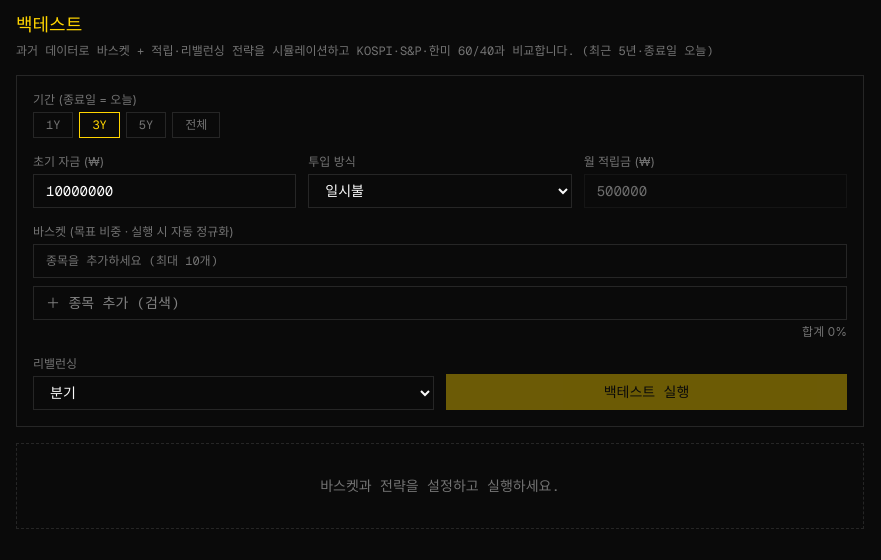
Scenario: BacktestPage › shows error message when API returns 422
The width and height of the screenshot is (881, 560).
In the field with placeholder "＋ 종목 추가 (검색)": [440, 303] box top-left (33, 286), bottom-right (847, 320), type "삼성"
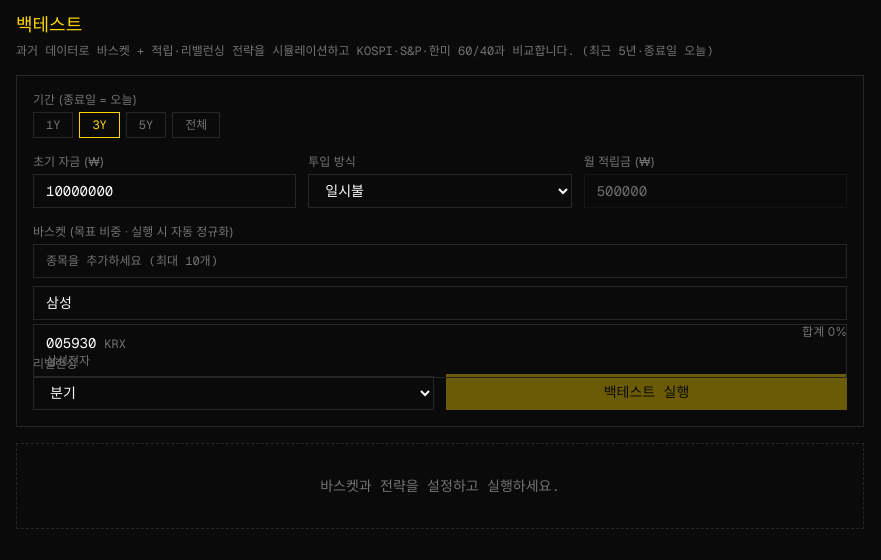
Click the button "005930KRX 삼성전자": [71, 343] box top-left (34, 325), bottom-right (846, 377)
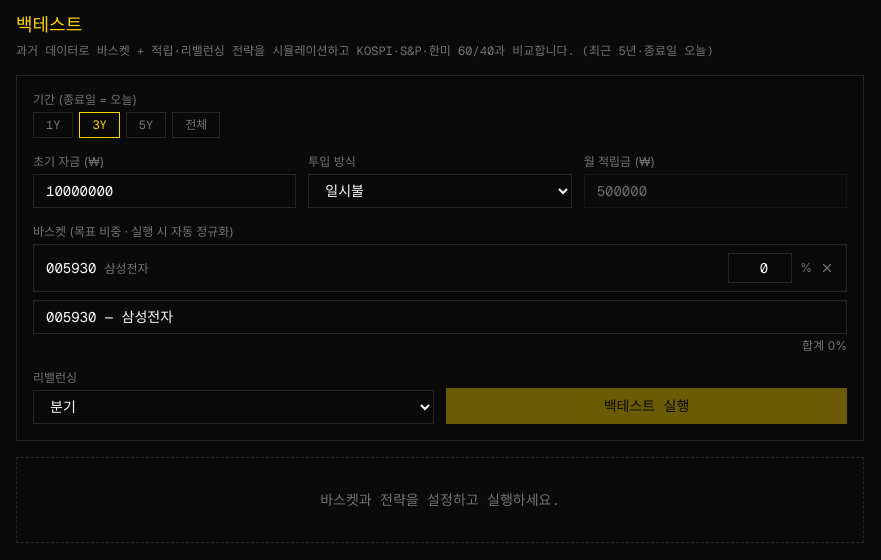
Replace the text in the number field named "005930 비중" with "100": [760, 268] box top-left (728, 253), bottom-right (792, 283)
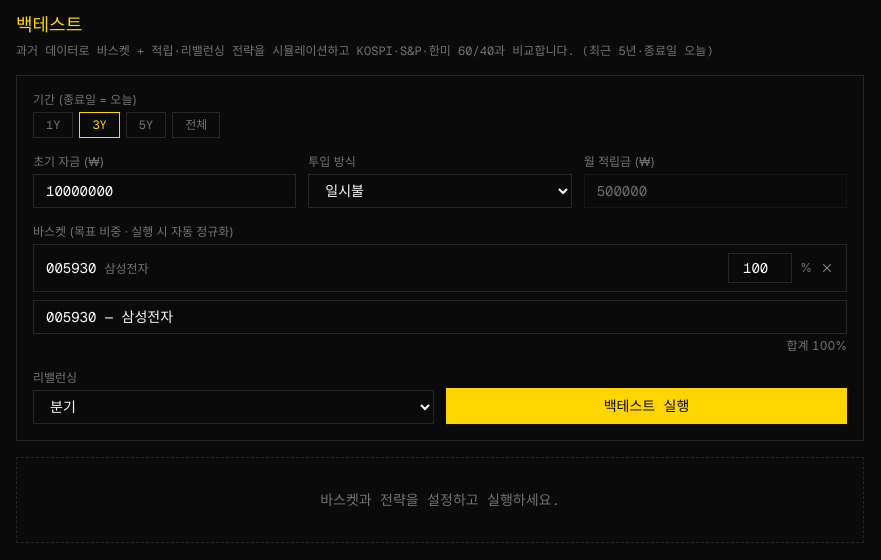
Click the button "백테스트 실행": [646, 406] box top-left (446, 388), bottom-right (847, 424)
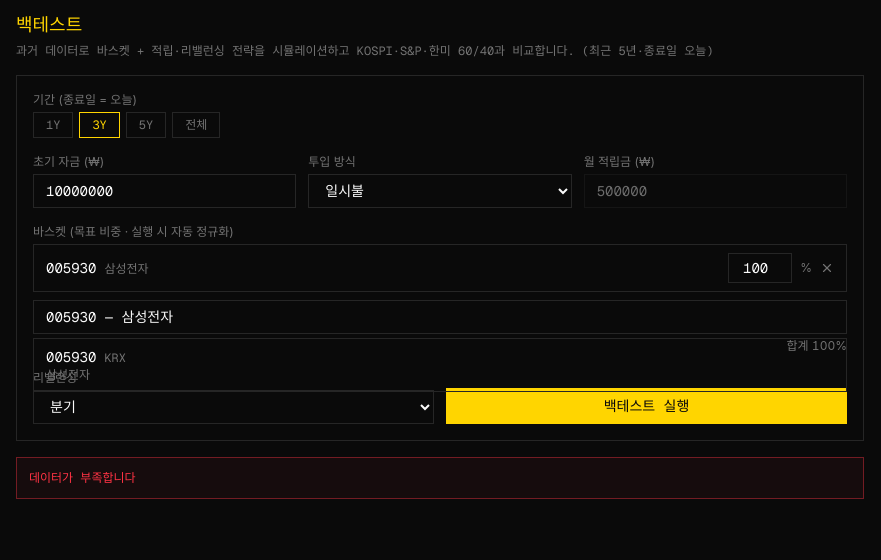
Now the text "데이터가 부족합니다" is shown, box top-left (16, 457), bottom-right (864, 499)
